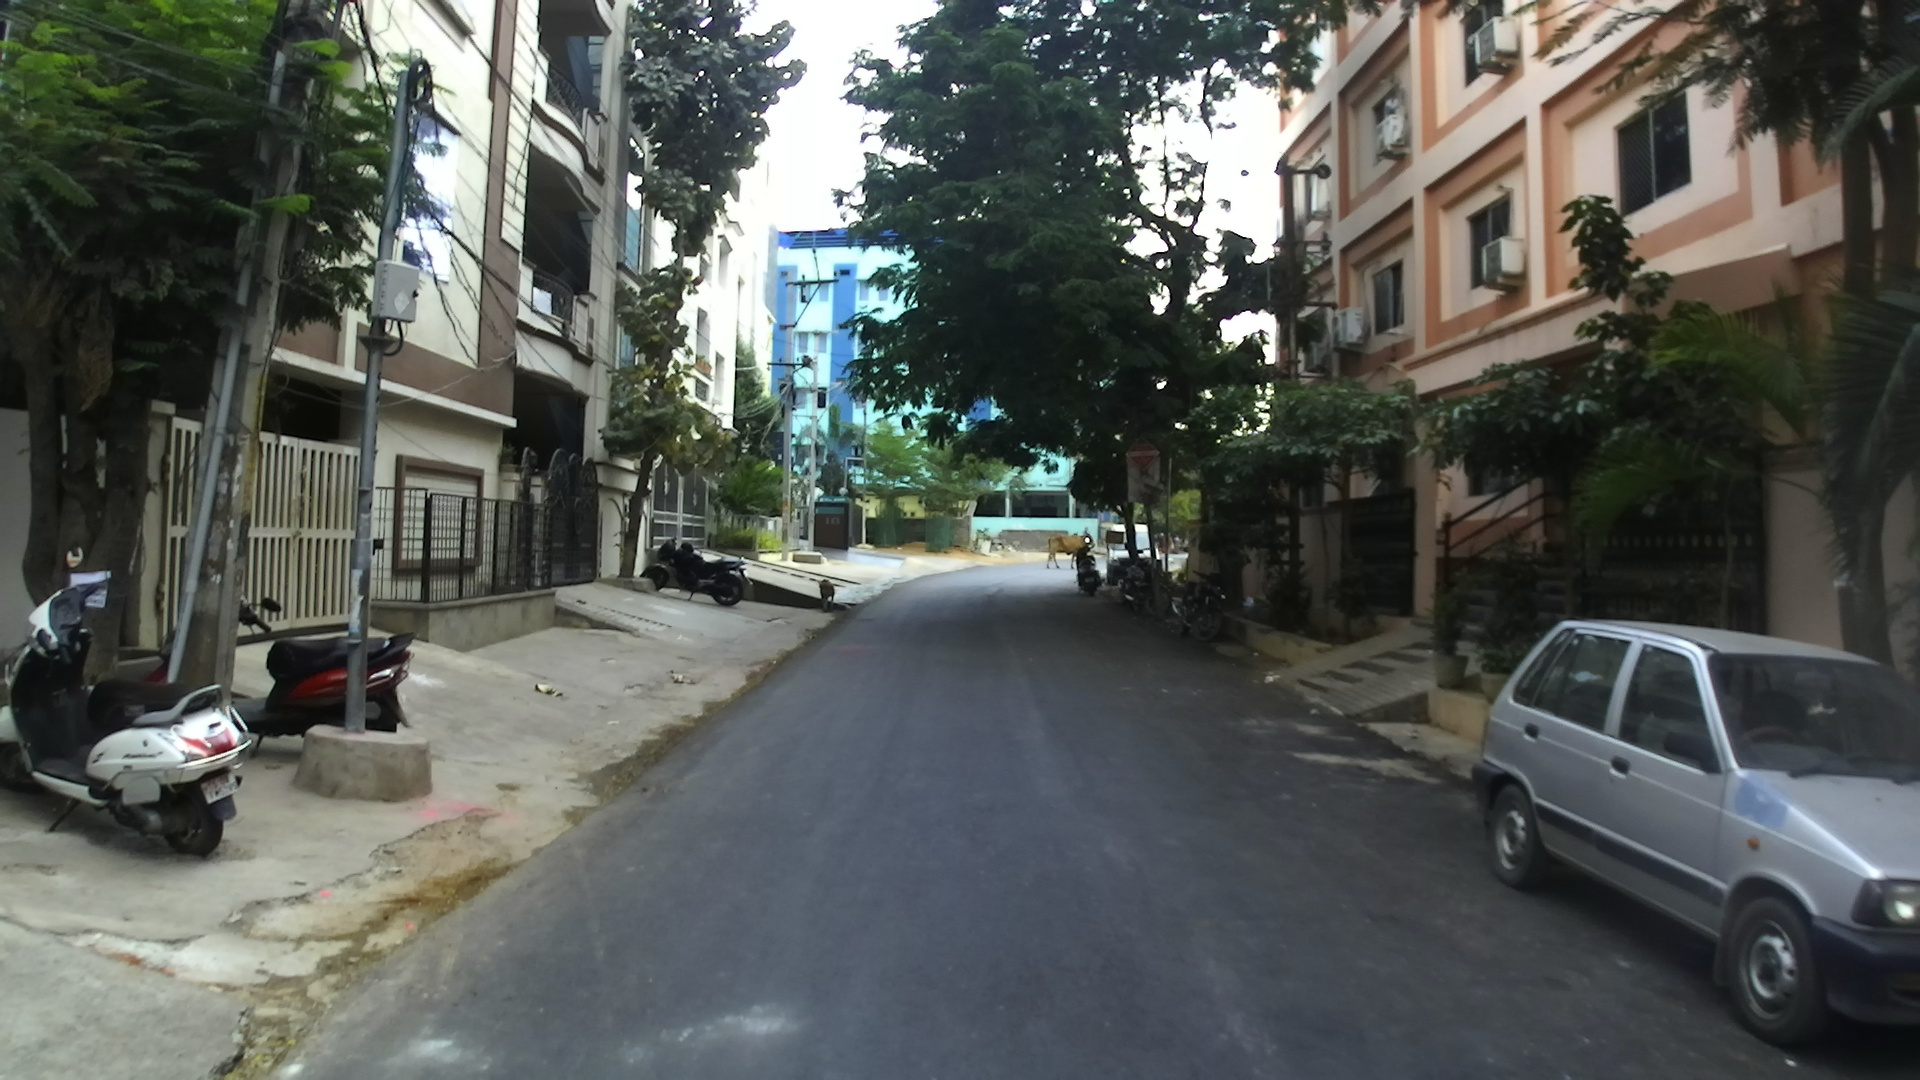vehicle: (1470, 618, 1919, 1050), (252, 628, 414, 738)
